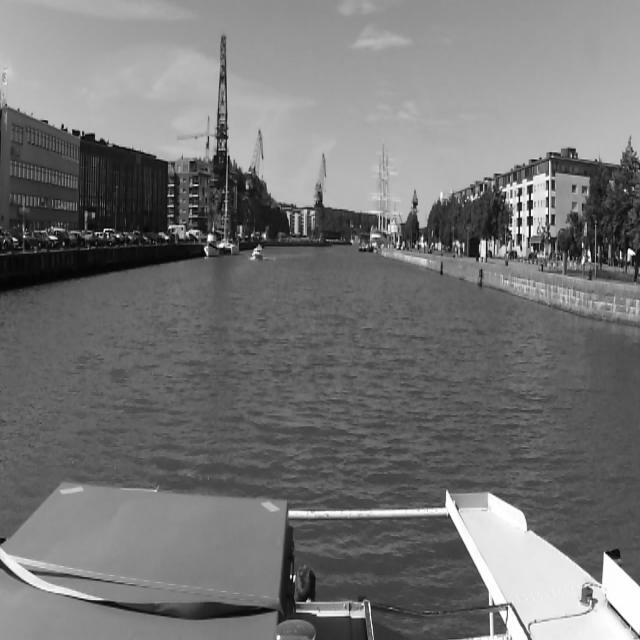ship: (220, 149, 240, 256), (204, 232, 220, 259), (252, 244, 264, 262)
